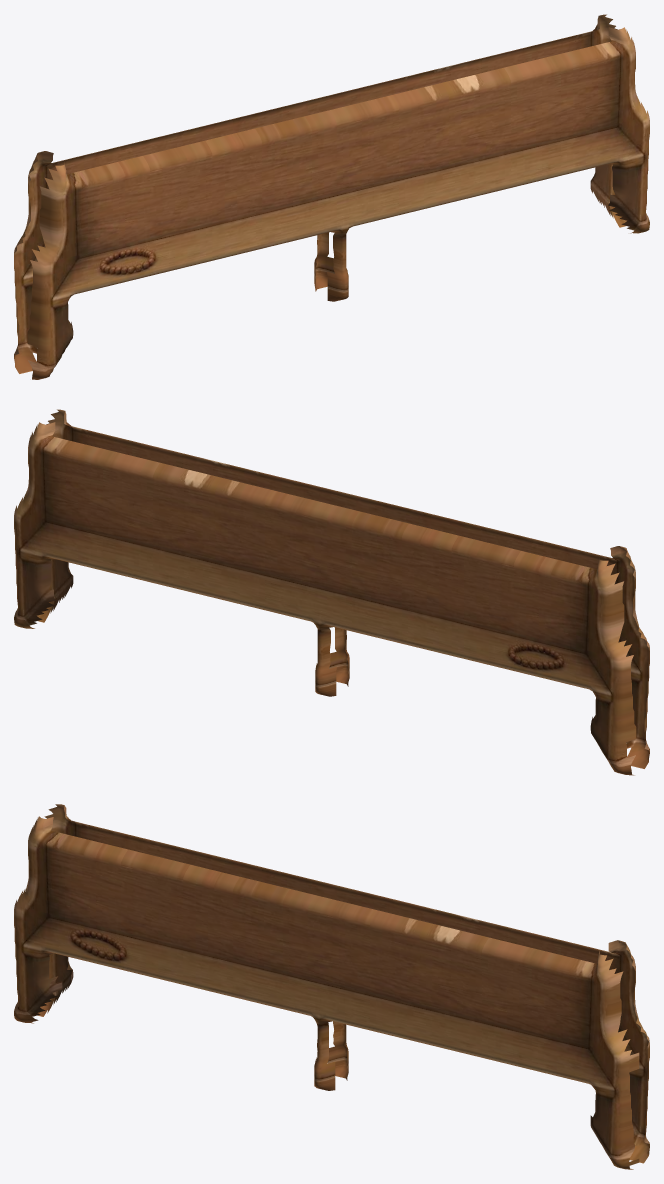
Rendered from v4-chapel-scatter-pew-beads.glb.
The picture shows the model from 3 angles, top to bottom: view 1: azimuth 30°, elevation 25°; view 2: azimuth 150°, elevation 25°; view 3: azimuth 330°, elevation 25°; orthographic projection.
Parts seen in each view (by area): view 1: v4-chapel-scatter-pew-beads; view 2: v4-chapel-scatter-pew-beads; view 3: v4-chapel-scatter-pew-beads.
Part boxes in pixels (<box>): v4-chapel-scatter-pew-beads: <box>14,14,649,379</box>; v4-chapel-scatter-pew-beads: <box>14,409,649,775</box>; v4-chapel-scatter-pew-beads: <box>14,804,649,1169</box>.
Size of the model in its own units: 2.65 by 0.8667 by 0.216.
Materials: 1 (1 with a texture image).
